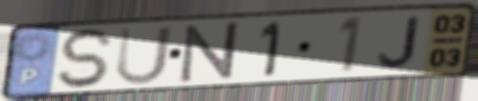1: (336, 14, 363, 76), (257, 20, 283, 78)
J: (375, 15, 421, 70)
N: (178, 19, 241, 85)
S: (56, 27, 118, 91)
U: (113, 24, 175, 87)
